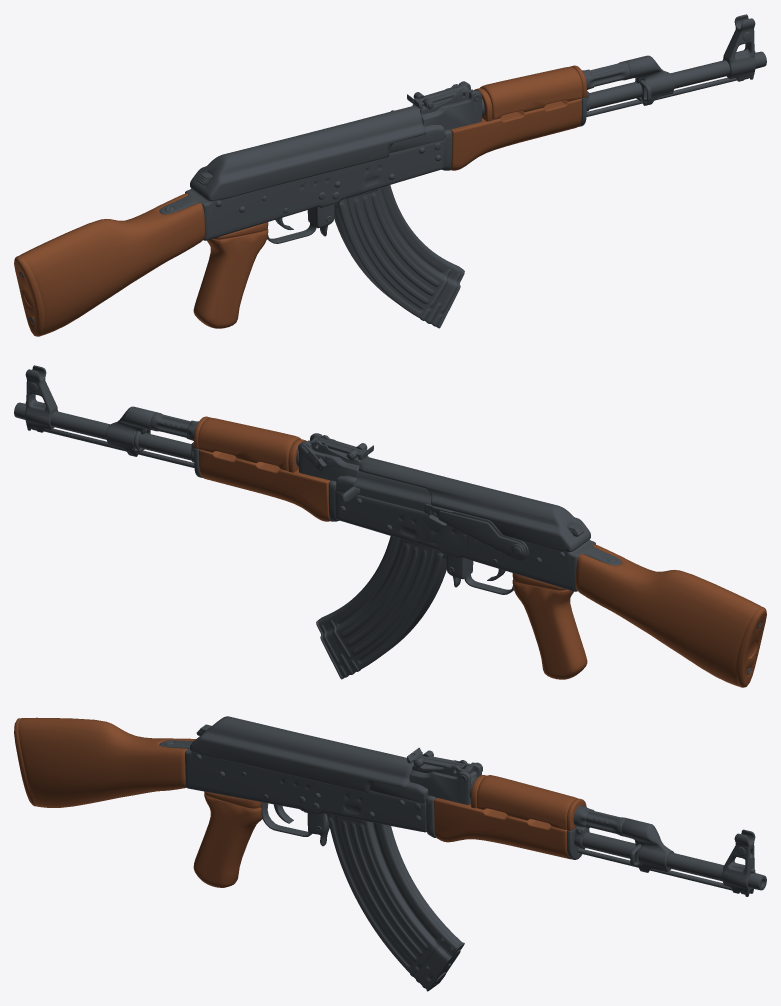
Rendered from lamoot-ak47.glb.
3 renders of one model, top to bottom at view 1: azimuth 30°, elevation 25°; view 2: azimuth 150°, elevation 25°; view 3: azimuth 330°, elevation 25°, orthographic.
Visible parts, largest first — view 1: AK47, Magazine; view 2: AK47, Magazine; view 3: AK47, Magazine.
Boxes of the visible parts, x1,y1,x2,y2 form: AK47: [14, 14, 766, 336]; Magazine: [334, 185, 464, 328]; AK47: [14, 365, 766, 687]; Magazine: [316, 536, 446, 679]; AK47: [14, 716, 766, 984]; Magazine: [328, 814, 464, 991].
Size of the model in its own units: 5.49 by 1.62 by 0.4408.
